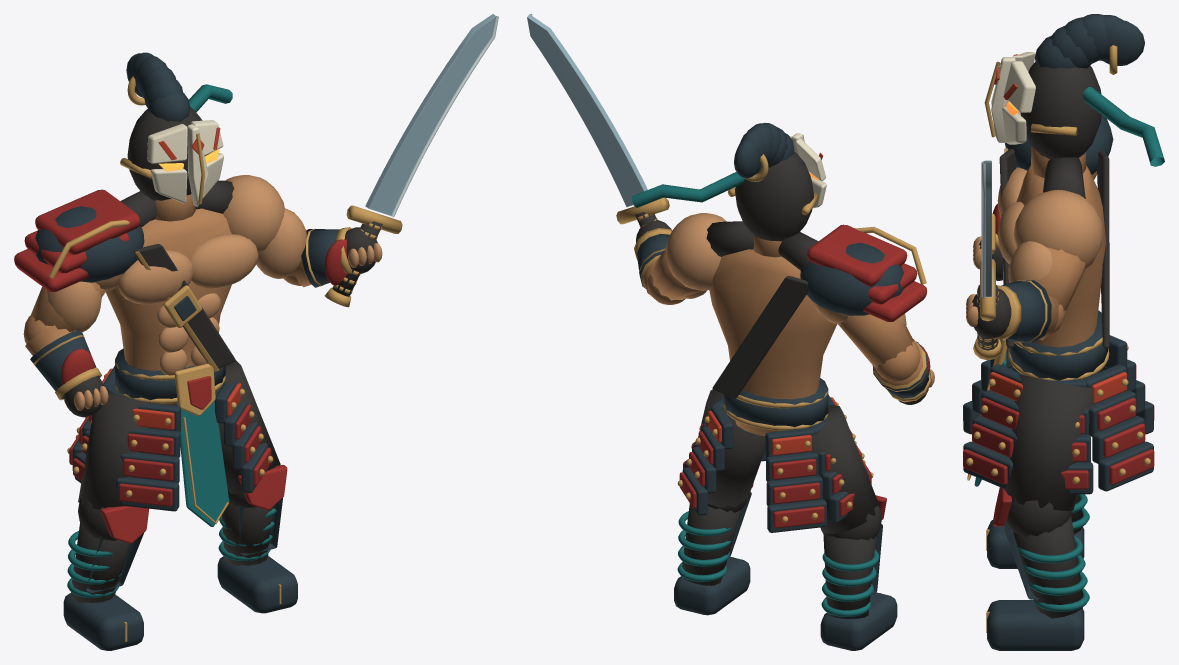
Rendered from ember-ronin-v001.glb.
3 renders of one model, left to right at view 1: azimuth 30°, elevation 25°; view 2: azimuth 150°, elevation 25°; view 3: azimuth 270°, elevation 25°, orthographic. The views are drawn at different scales.
Parts seen in each view (by area): view 1: Muscular torso, Curved tempered sword blade, Loose trouser thigh, Teal front tabard, Shoulder deltoid.001, Split toe boot, Split toe boot.001, Left shoulder iron base, Left overlapping shoulder lacquer, Pectoral.001, Pectoral, Bound lower leg (+35 smaller); view 2: Muscular torso, Curved tempered sword blade, Dark head under mask, Loose trouser thigh, Back harness, Left shoulder iron base, Shoulder deltoid.001, Loose trouser thigh.001, Left overlapping shoulder lacquer, Wide belt, Split toe boot, Bound lower leg (+23 smaller); view 3: Loose trouser thigh.001, Dark head under mask, Shoulder deltoid.001, Split toe boot.001, Muscular torso, Bound lower leg.001, Wide belt, Iron bracer.001, Headband flowing tail, Upper arm.001, Cloth knee.001, Back harness (+55 smaller).
Part boxes in pixels (left/top/right/bottom): Muscular torso: left=105, top=208, right=231, bottom=405; Curved tempered sword blade: left=365, top=14, right=496, bottom=215; Loose trouser thigh: left=78, top=391, right=149, bottom=509; Teal front tabard: left=176, top=401, right=229, bottom=526; Shoulder deltoid.001: left=223, top=175, right=284, bottom=253; Split toe boot: left=63, top=593, right=143, bottom=650; Split toe boot.001: left=217, top=556, right=297, bottom=613; Left shoulder iron base: left=35, top=206, right=144, bottom=282; Left overlapping shoulder lacquer: left=35, top=189, right=140, bottom=254; Pectoral.001: left=190, top=234, right=258, bottom=288; Pectoral: left=118, top=250, right=192, bottom=304; Bound lower leg: left=71, top=522, right=129, bottom=602; Muscular torso: left=709, top=249, right=836, bottom=436; Curved tempered sword blade: left=527, top=15, right=647, bottom=207; Dark head under mask: left=735, top=151, right=813, bottom=241; Loose trouser thigh: left=808, top=405, right=879, bottom=533; Back harness: left=712, top=276, right=808, bottom=398; Left shoulder iron base: left=800, top=242, right=903, bottom=315; Shoulder deltoid.001: left=666, top=213, right=726, bottom=290; Loose trouser thigh.001: left=698, top=389, right=765, bottom=507; Left overlapping shoulder lacquer: left=807, top=224, right=907, bottom=286; Wide belt: left=723, top=378, right=828, bottom=429; Split toe boot: left=820, top=592, right=897, bottom=650; Bound lower leg: left=823, top=534, right=875, bottom=618; Loose trouser thigh.001: left=1003, top=374, right=1093, bottom=510; Dark head under mask: left=1020, top=61, right=1101, bottom=159; Shoulder deltoid.001: left=1013, top=189, right=1103, bottom=268; Split toe boot.001: left=987, top=600, right=1084, bottom=650; Muscular torso: left=1016, top=165, right=1105, bottom=347; Bound lower leg.001: left=1012, top=515, right=1082, bottom=618; Wide belt: left=1009, top=310, right=1107, bottom=380; Iron bracer.001: left=1001, top=280, right=1051, bottom=342; Headband flowing tail: left=1082, top=87, right=1164, bottom=166; Upper arm.001: left=1034, top=247, right=1085, bottom=311; Cloth knee.001: left=1006, top=498, right=1071, bottom=536; Back harness: left=1097, top=150, right=1109, bottom=348.
Bounding box in the file's own units: 3.15 × 3.73 × 1.14.
